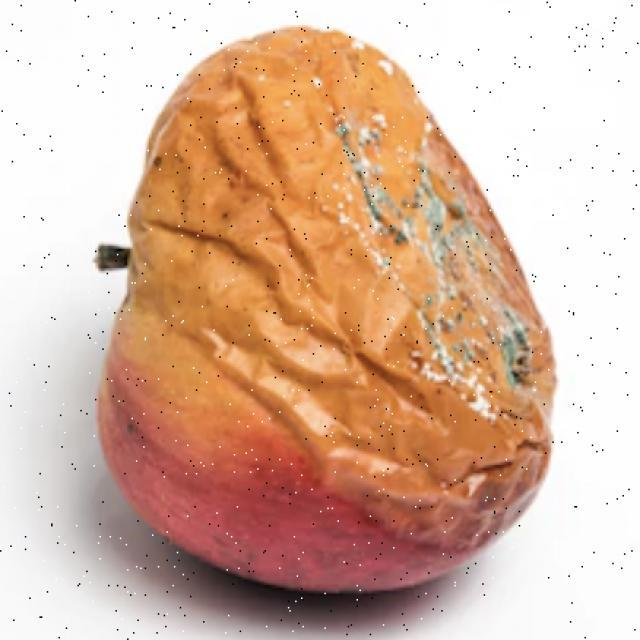Rotten: (98, 31, 575, 602)
